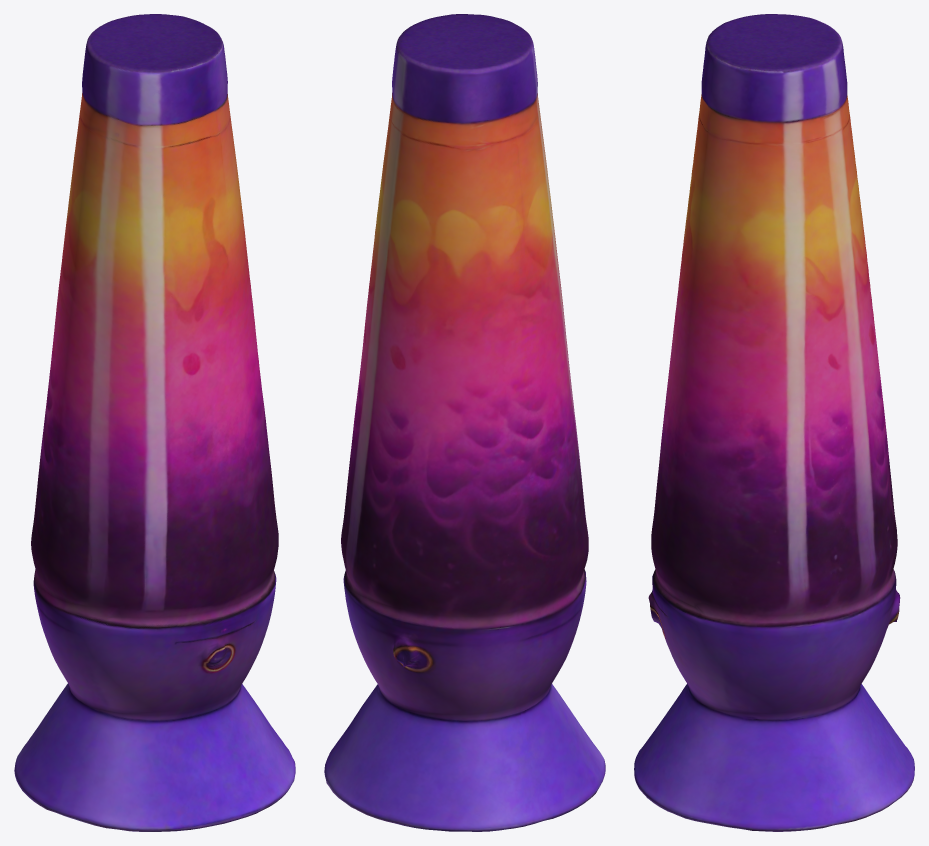
The model's file is Meshy_AI_Lava_Lamp_Glow_0224164135_texture.fbx.
3 renders of one model, left to right at view 1: azimuth 30°, elevation 25°; view 2: azimuth 150°, elevation 25°; view 3: azimuth 270°, elevation 25°, orthographic.
Parts seen in each view (by area): view 1: Mesh1_Mesh1.040; view 2: Mesh1_Mesh1.040; view 3: Mesh1_Mesh1.040.
Part boxes in pixels (bbox=[...]): Mesh1_Mesh1.040: bbox=[14, 14, 295, 831]; Mesh1_Mesh1.040: bbox=[324, 14, 605, 831]; Mesh1_Mesh1.040: bbox=[634, 14, 914, 831].
Size of the model in its own units: 68.78 by 200 by 68.72.
1 material, 1 textured.
